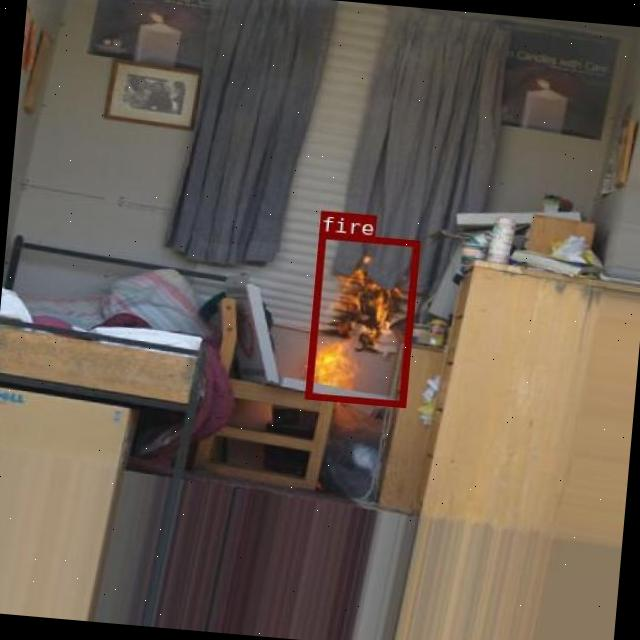fire: (304, 232, 418, 406)
